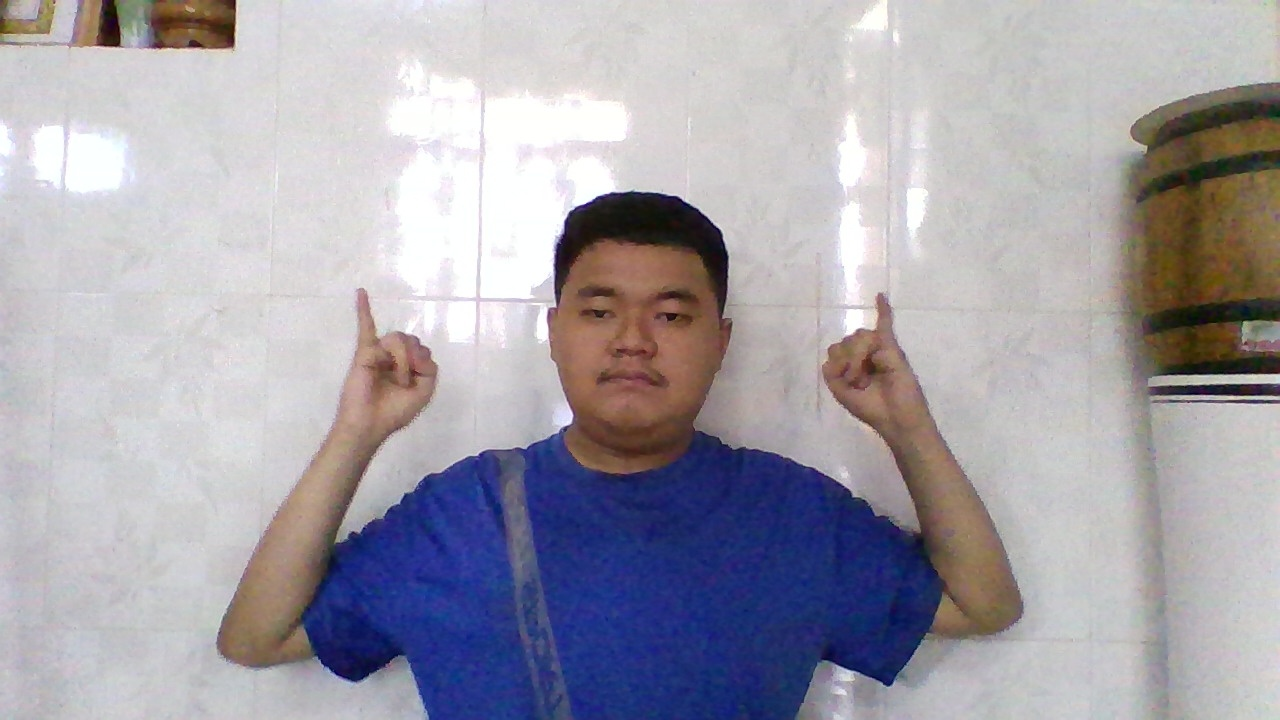I: (342, 277, 450, 446), (812, 279, 912, 437)
